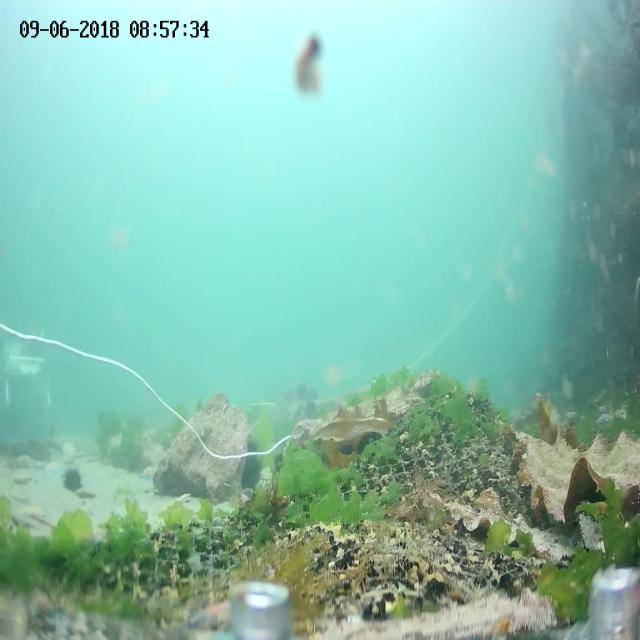scallop: (8, 485, 31, 506), (14, 467, 32, 486)
starfish: (190, 597, 242, 628), (81, 526, 112, 548), (41, 459, 68, 481), (141, 462, 164, 481)
